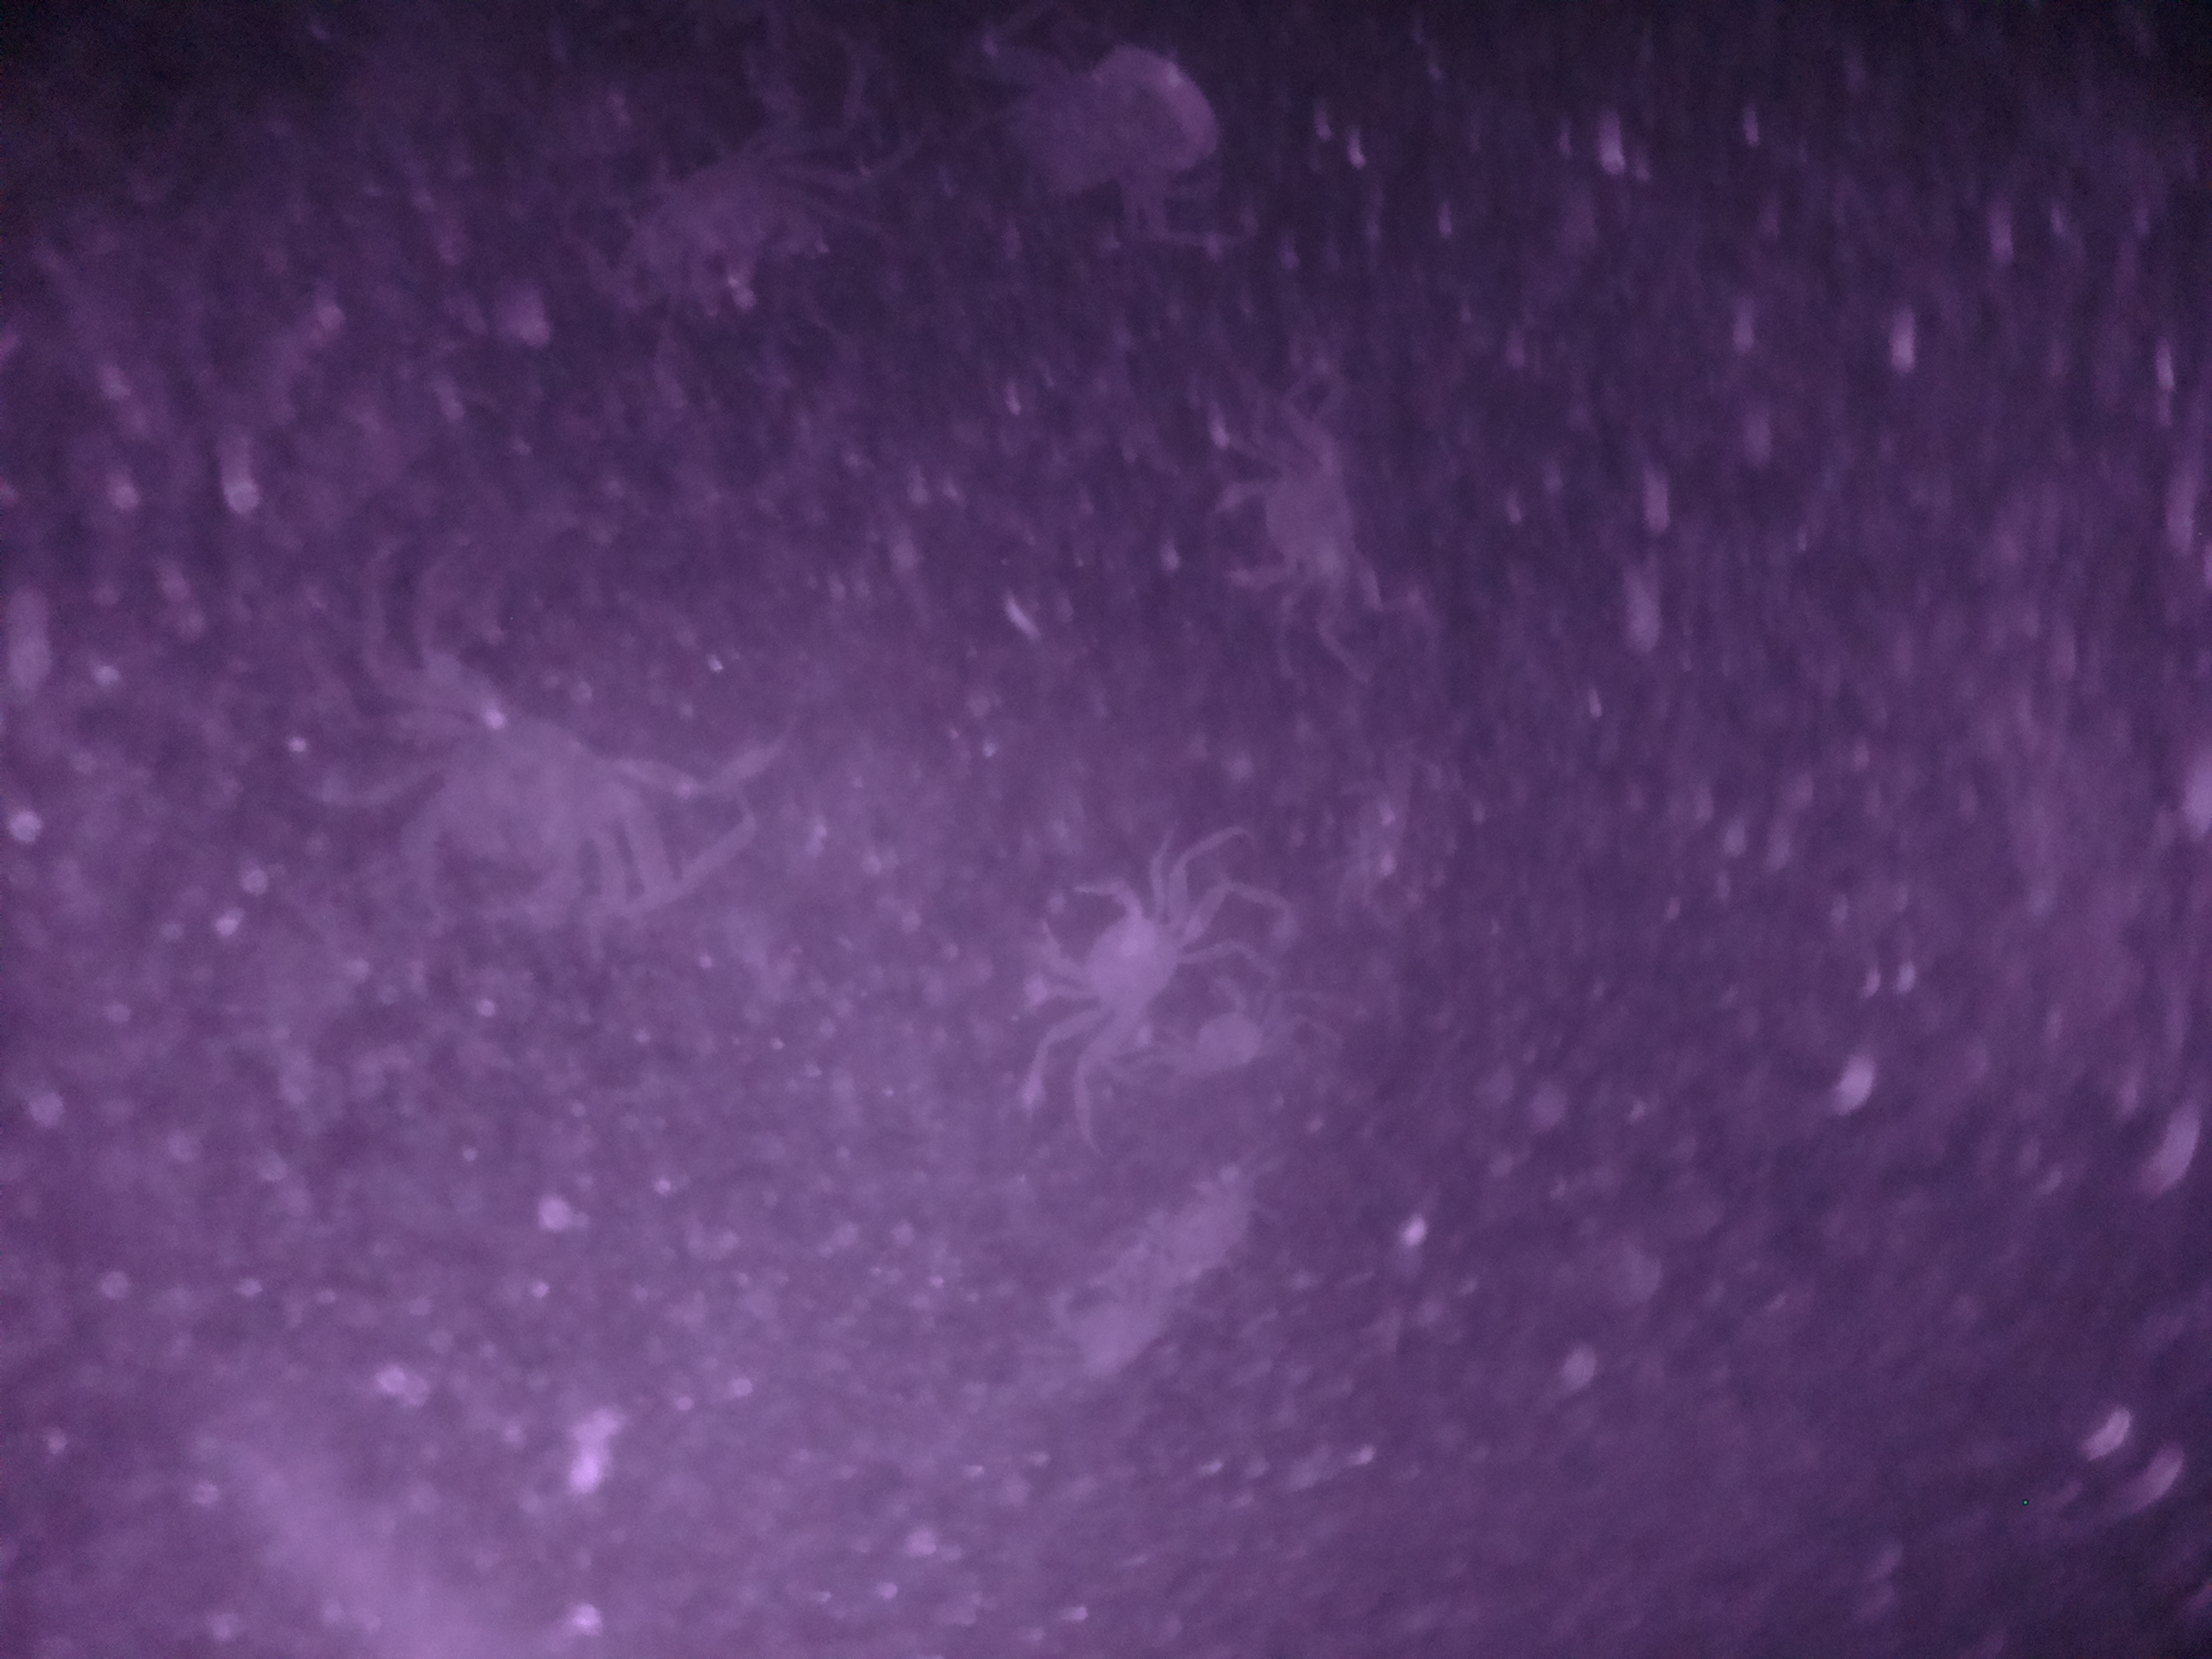Crab: (1012, 838, 1216, 1068)
